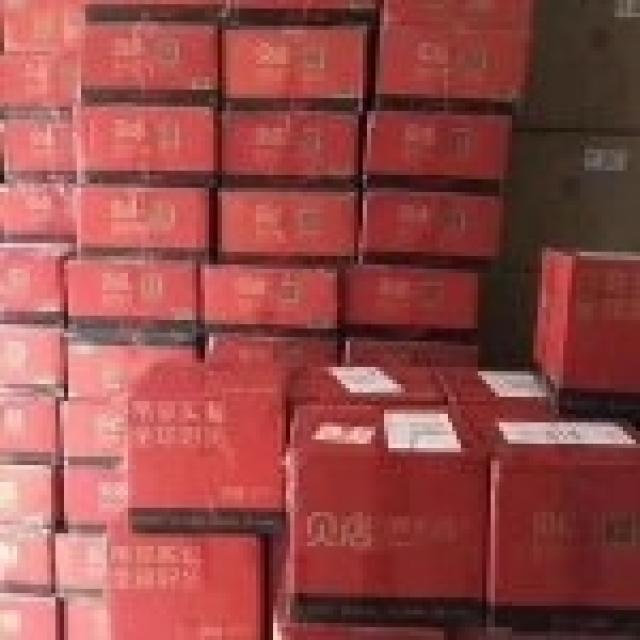box: (286, 405, 491, 627), (457, 401, 640, 627), (128, 358, 307, 533), (107, 503, 265, 640), (503, 132, 640, 269), (269, 533, 444, 640), (533, 247, 640, 418), (516, 0, 640, 132), (375, 26, 533, 115), (213, 175, 358, 265), (81, 17, 222, 107), (358, 179, 499, 265), (222, 26, 363, 107), (77, 102, 218, 183), (337, 265, 482, 337), (363, 111, 516, 179), (201, 265, 337, 337), (77, 188, 209, 260), (64, 260, 201, 329), (68, 329, 201, 397), (222, 111, 358, 175), (0, 243, 77, 324), (0, 107, 77, 179), (205, 329, 337, 367), (311, 367, 448, 401), (0, 183, 77, 243), (0, 51, 81, 107), (60, 397, 128, 461), (0, 324, 64, 388), (384, 0, 538, 26), (222, 0, 375, 26), (346, 337, 478, 367), (0, 465, 64, 525), (68, 465, 128, 529), (0, 397, 60, 461), (4, 0, 85, 47), (439, 367, 546, 401), (0, 525, 51, 593), (0, 593, 60, 640), (85, 0, 218, 21), (55, 538, 107, 589), (64, 593, 107, 640)
